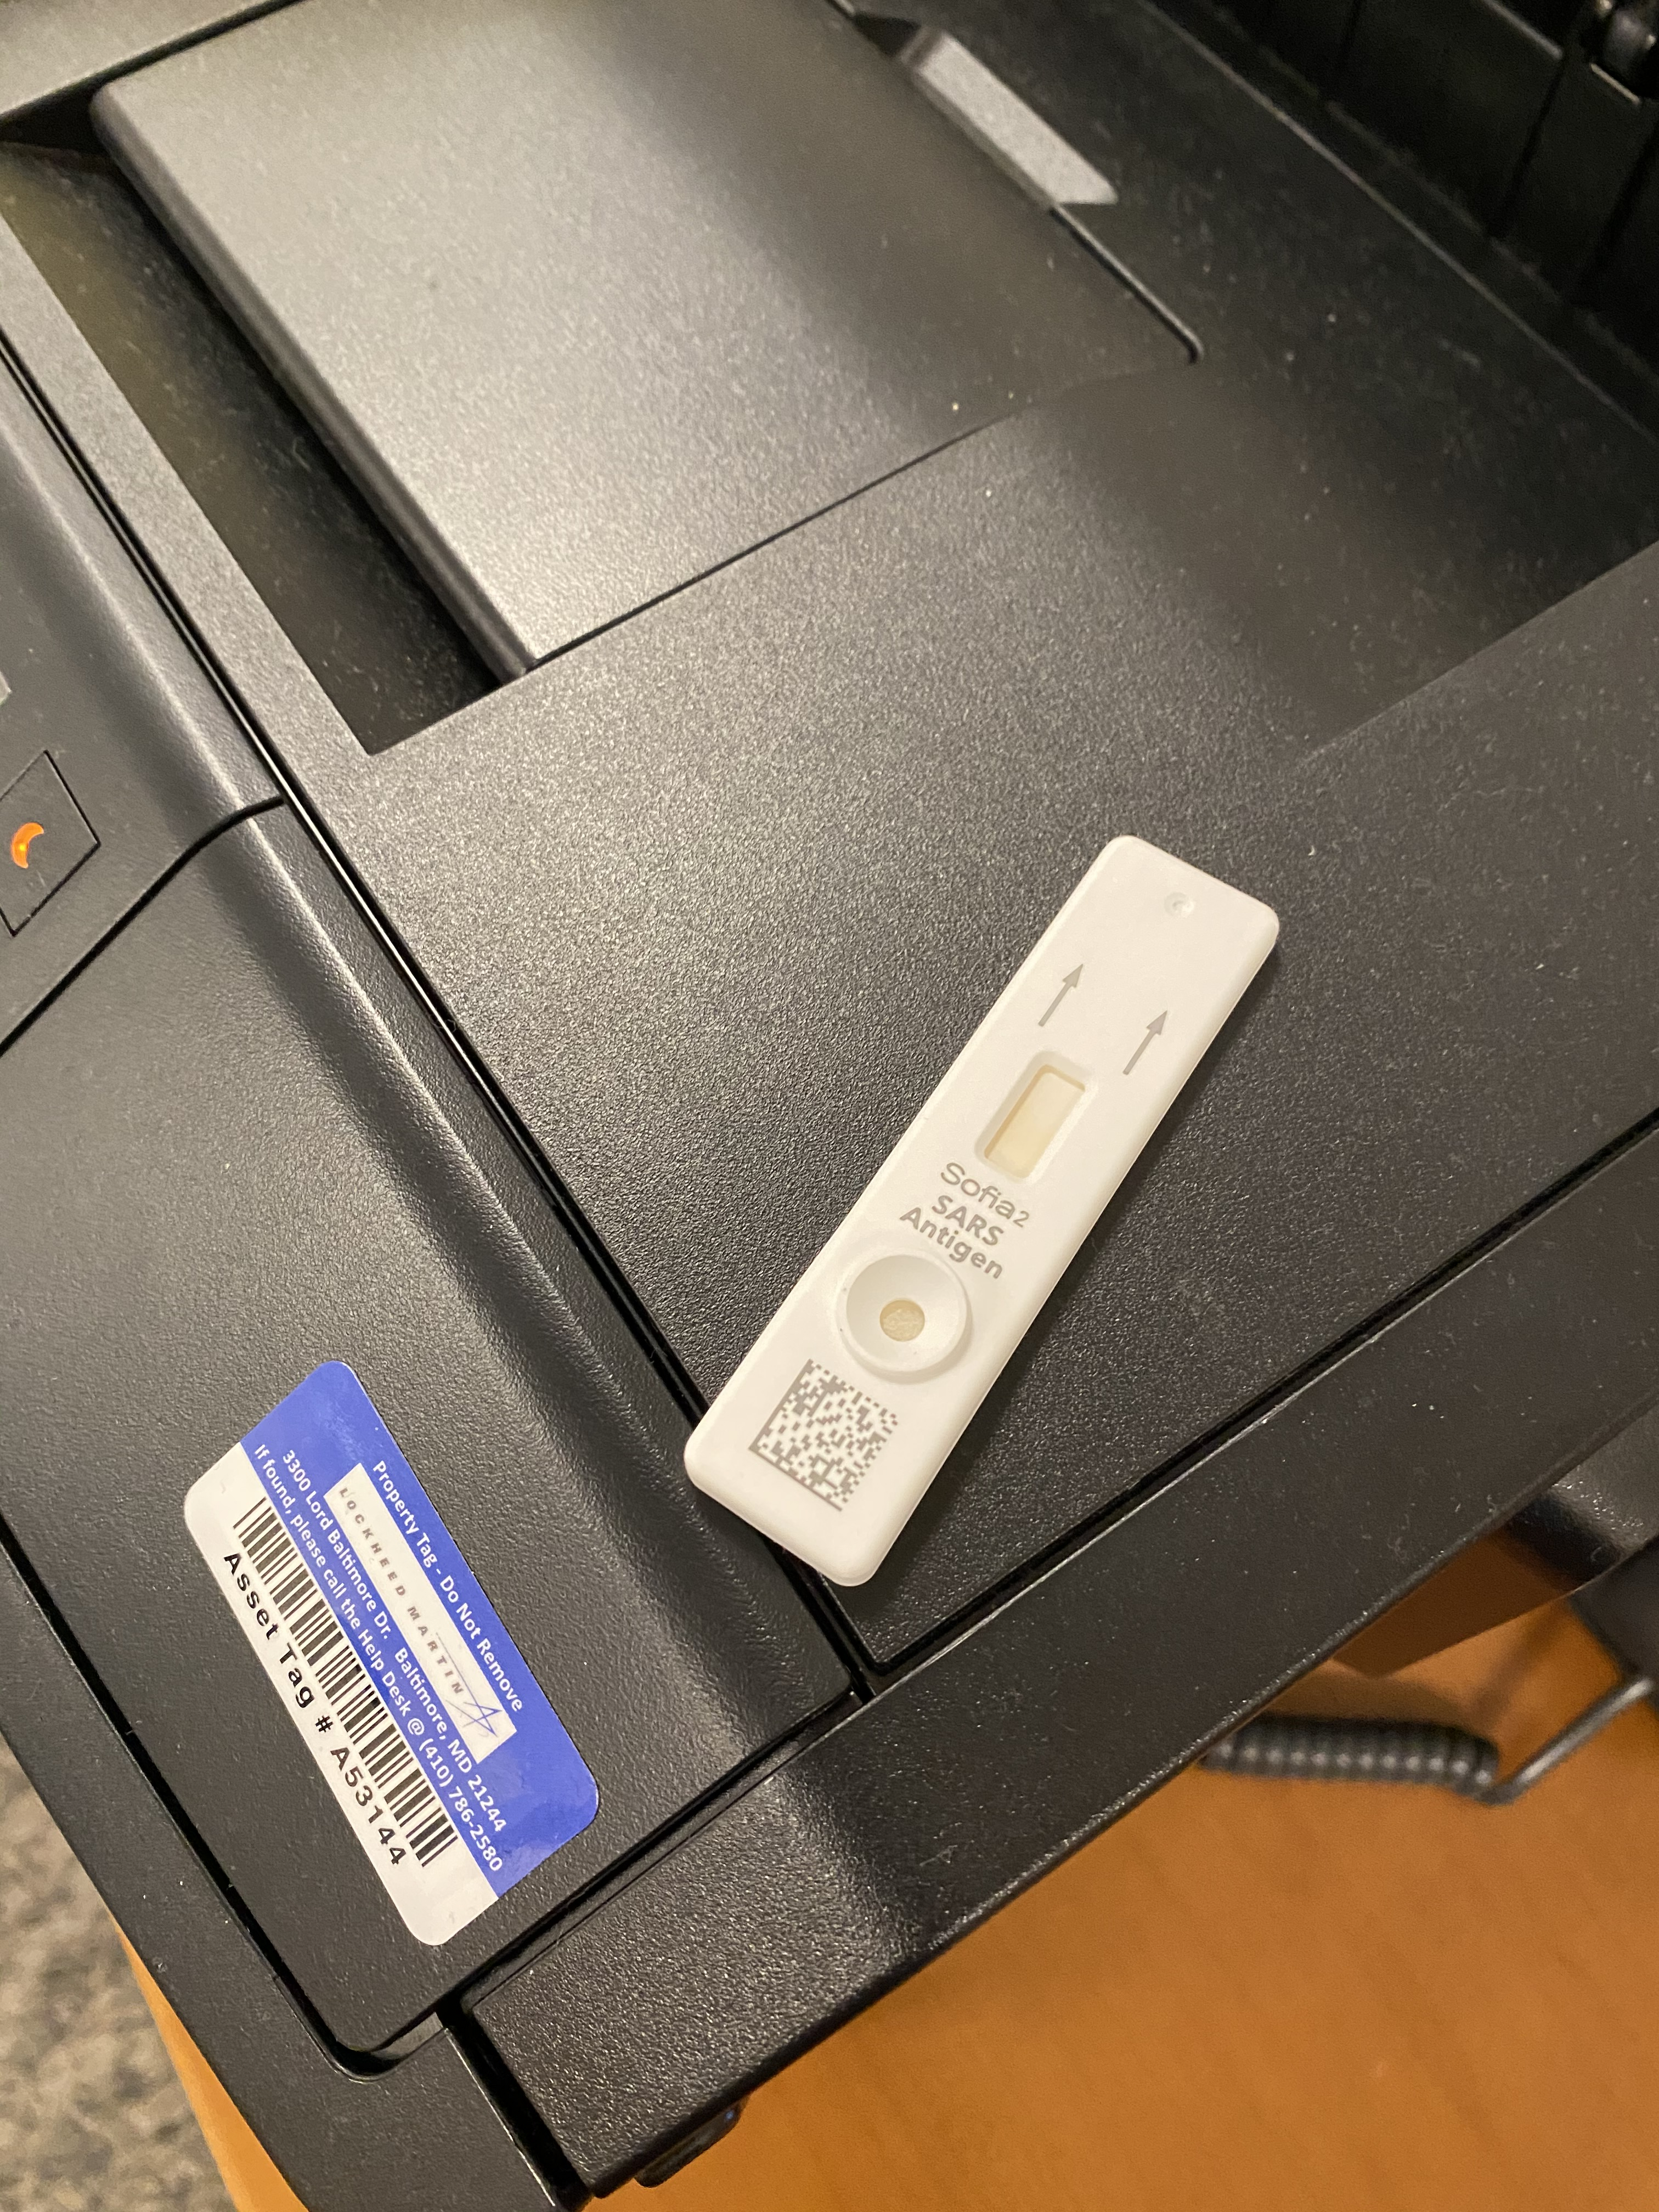quidel: (680, 827, 1290, 1588)
